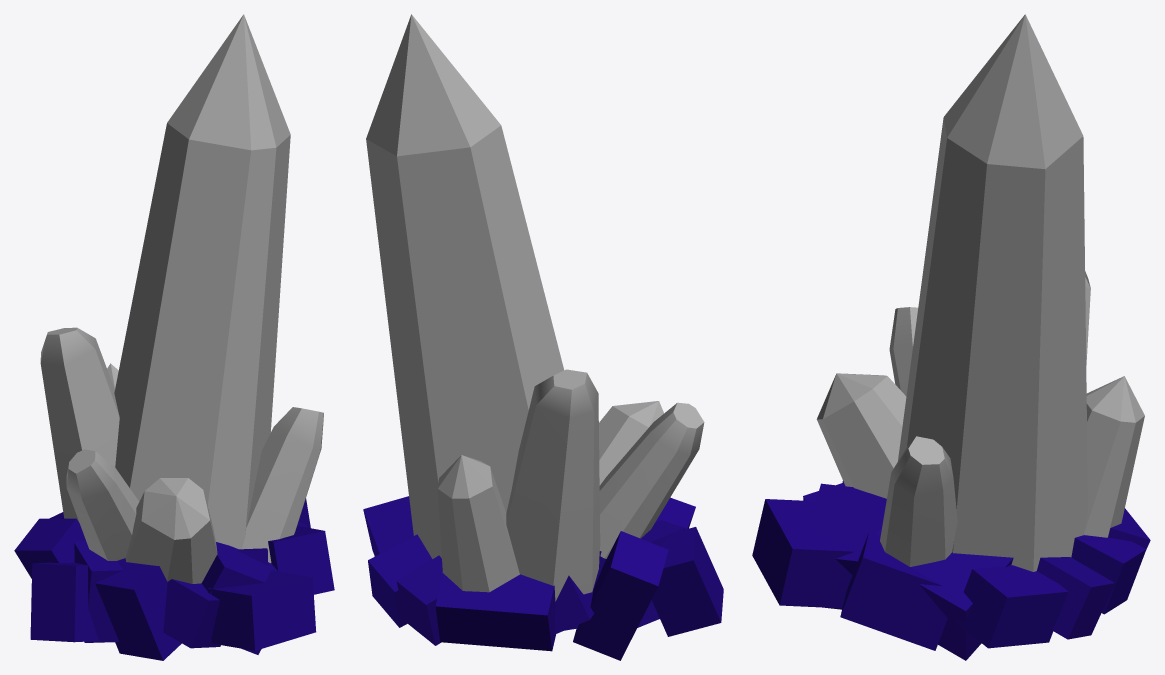
Rendered from SM_Crystals1.fbx.
3 renders of one model, left to right at view 1: azimuth 30°, elevation 25°; view 2: azimuth 150°, elevation 25°; view 3: azimuth 270°, elevation 25°, orthographic. The views are drawn at different scales.
Parts seen in each view (by area): view 1: Crystals1; view 2: Crystals1; view 3: Crystals1.
Boxes of the visible parts, box(x1,y1,x2,y2) form: Crystals1: box(14, 14, 334, 660); Crystals1: box(363, 14, 723, 660); Crystals1: box(752, 14, 1150, 660).
Size of the model in its own units: 229 by 406 by 226.
